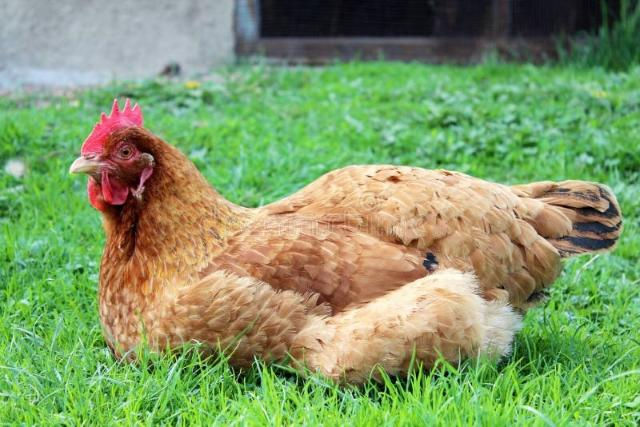Chicken: (68, 97, 623, 388)
